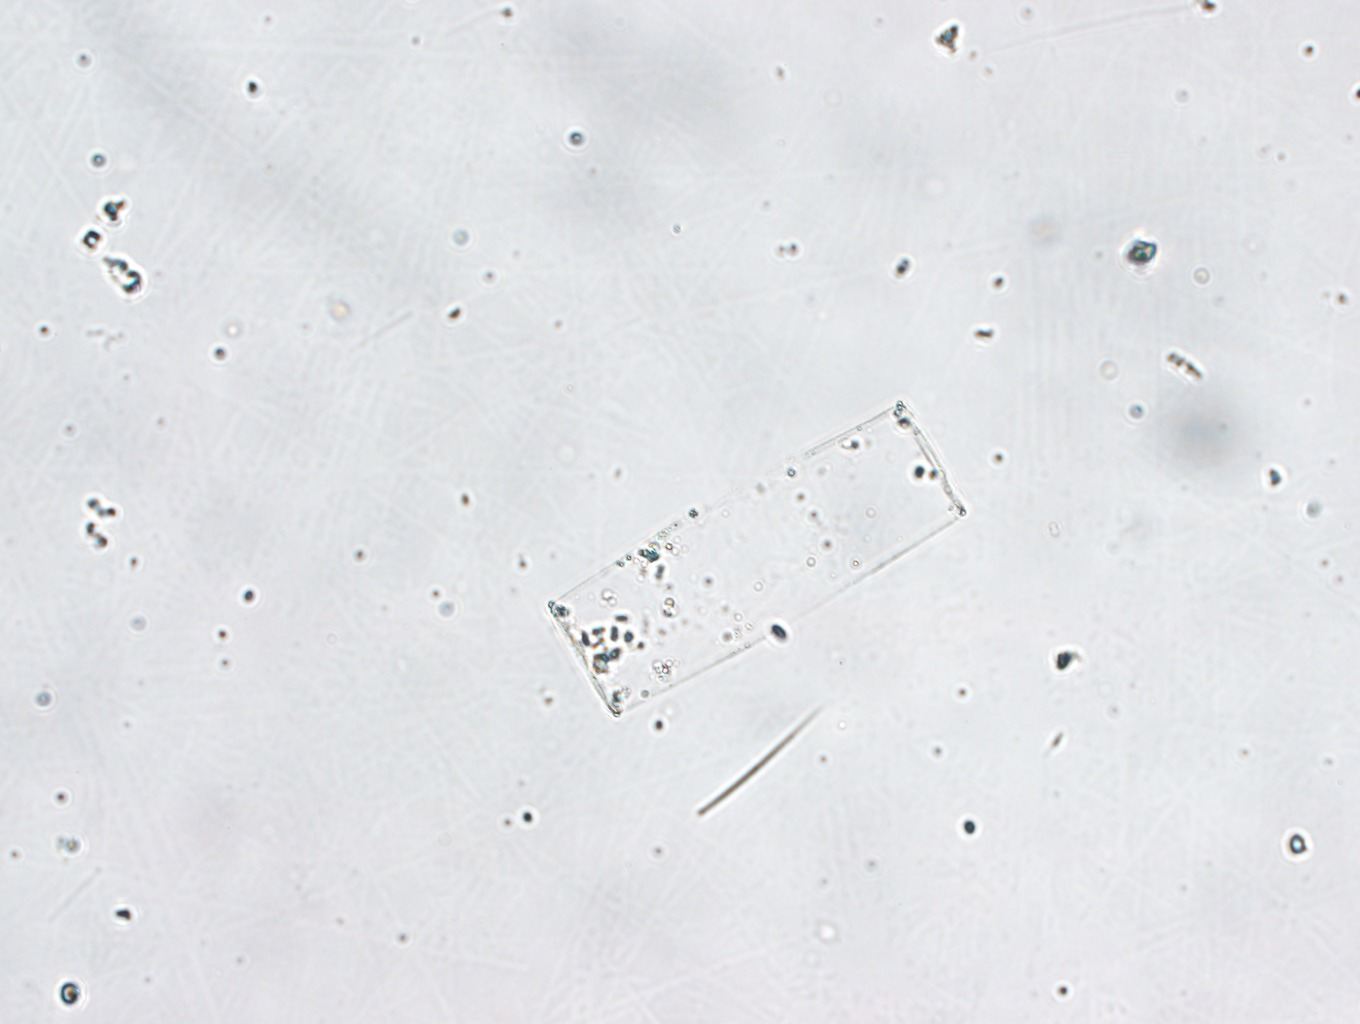guinardia flaccida: (536, 395, 976, 722)
